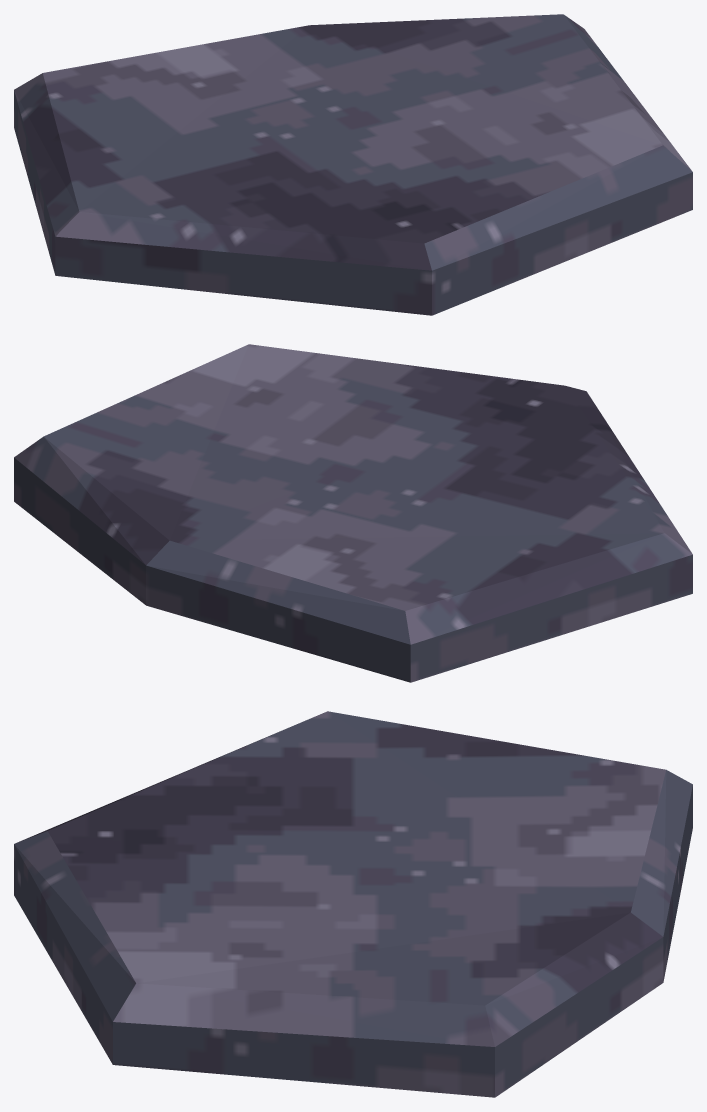
The model's file is SM_CV_FloorSlabB.fbx.
3 renders of one model, top to bottom at view 1: azimuth 30°, elevation 25°; view 2: azimuth 150°, elevation 25°; view 3: azimuth 270°, elevation 25°, orthographic. The views are drawn at different scales.
Parts seen in each view (by area): view 1: CV_FloorSlabB_Slab; view 2: CV_FloorSlabB_Slab; view 3: CV_FloorSlabB_Slab.
Part boxes in pixels (x1,y1,x2,y2): CV_FloorSlabB_Slab: (14,14,692,315); CV_FloorSlabB_Slab: (14,344,692,682); CV_FloorSlabB_Slab: (14,711,692,1097).
Size of the model in its own units: 0.8004 by 0.0863 by 0.6813.
